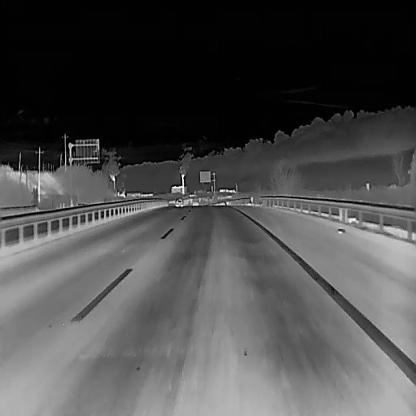car: (174, 196, 184, 207), (191, 198, 199, 206)
